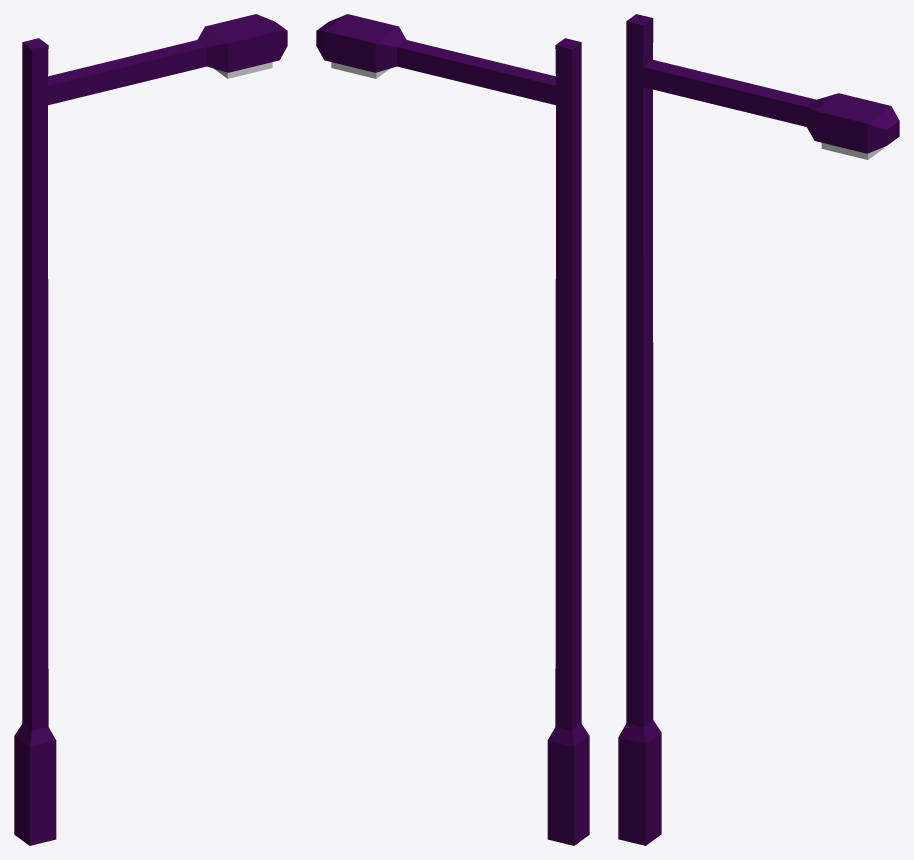
File: Lamp post.fbx
3 views of the same model, side by side, from view 1: azimuth 30°, elevation 25°; view 2: azimuth 150°, elevation 25°; view 3: azimuth 330°, elevation 25° (orthographic). The views are drawn at different scales.
Parts seen in each view (by area): view 1: Cube; view 2: Cube; view 3: Cube.
Boxes of the visible parts, left/top/right/bottom form: Cube: left=14, top=14, right=287, bottom=845; Cube: left=316, top=14, right=589, bottom=845; Cube: left=618, top=14, right=899, bottom=845.
Size of the model in its own units: 1012 by 2960 by 158.
